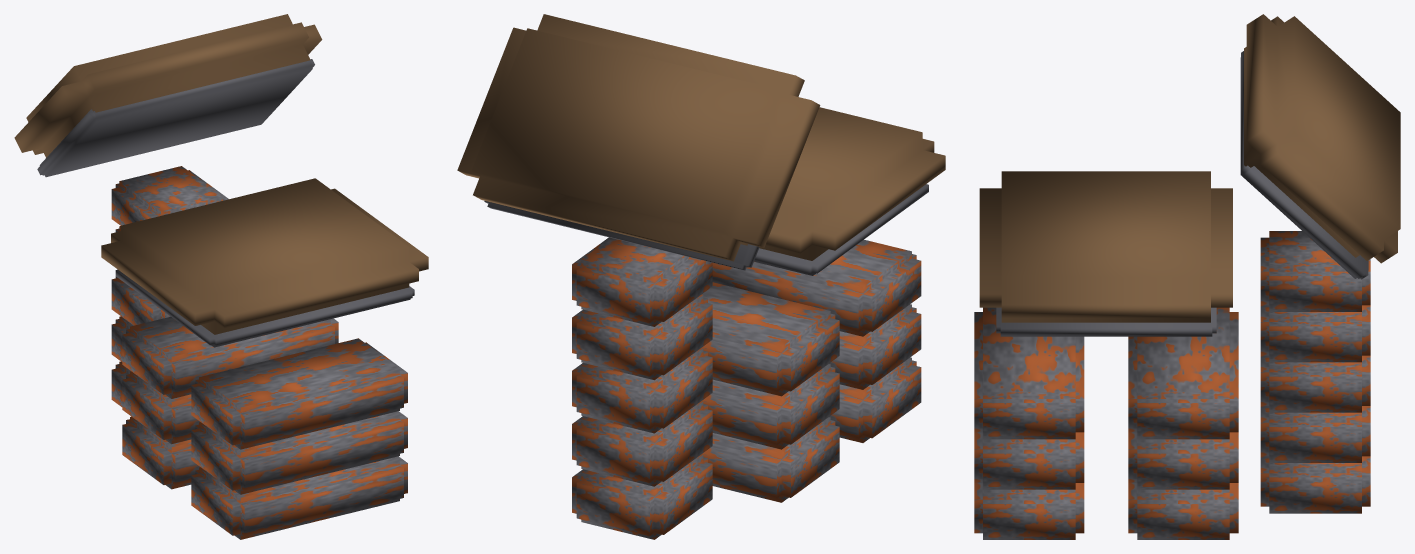
File: RustyBench.fbx
The picture shows the model from 3 angles, left to right: view 1: azimuth 30°, elevation 25°; view 2: azimuth 150°, elevation 25°; view 3: azimuth 270°, elevation 25°; orthographic projection. The views are drawn at different scales.
Visible parts, largest first — view 1: RustyBench; view 2: RustyBench; view 3: RustyBench.
Part boxes in pixels (left/top/right/bottom): RustyBench: left=14, top=14, right=428, bottom=539; RustyBench: left=457, top=14, right=945, bottom=539; RustyBench: left=974, top=14, right=1400, bottom=539.
Size of the model in its own units: 214 by 308 by 281.
1 material, 1 textured.
